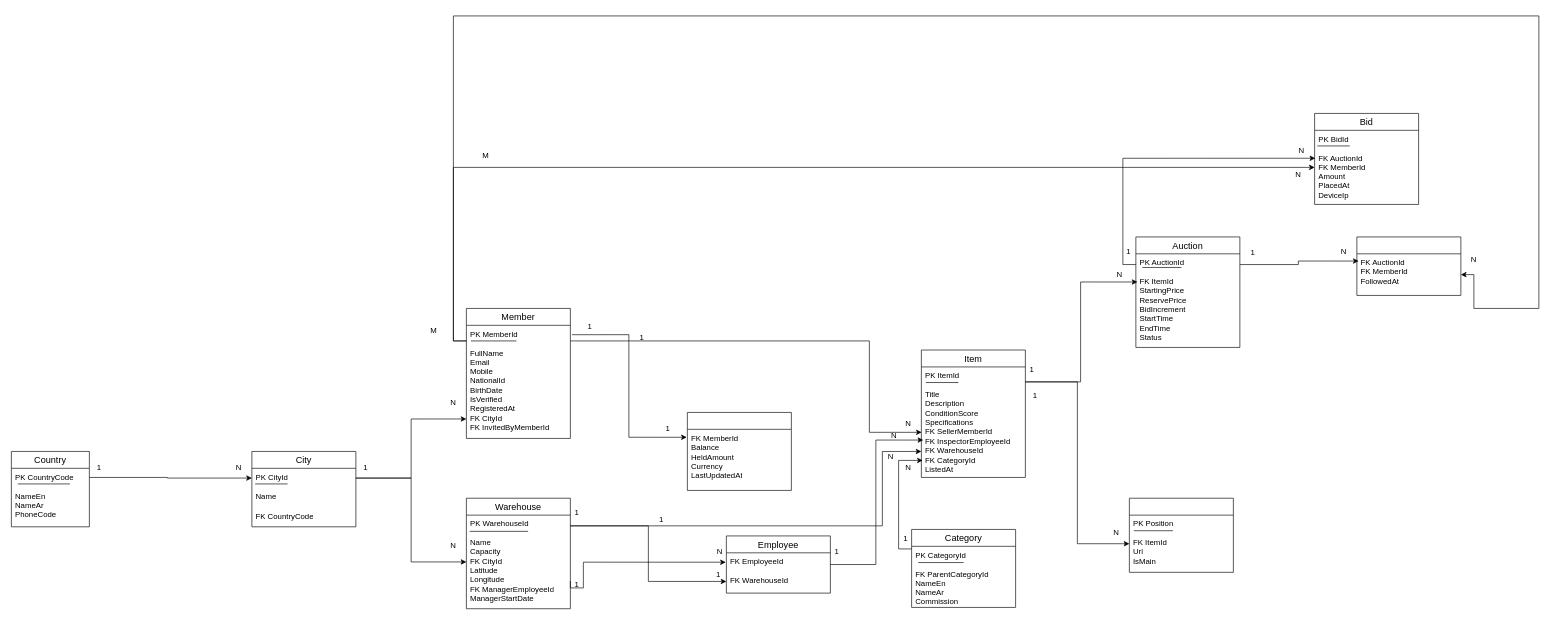
Image size: 1555x622. Some labels were removed from this diagram. Here are the shapes that lost their labels. From the top down, the box of each, then its label:
(1356, 236, 1461, 295): AuctionFollower
(687, 412, 791, 490): Wallet
(1129, 498, 1233, 572): ItemPhoto
